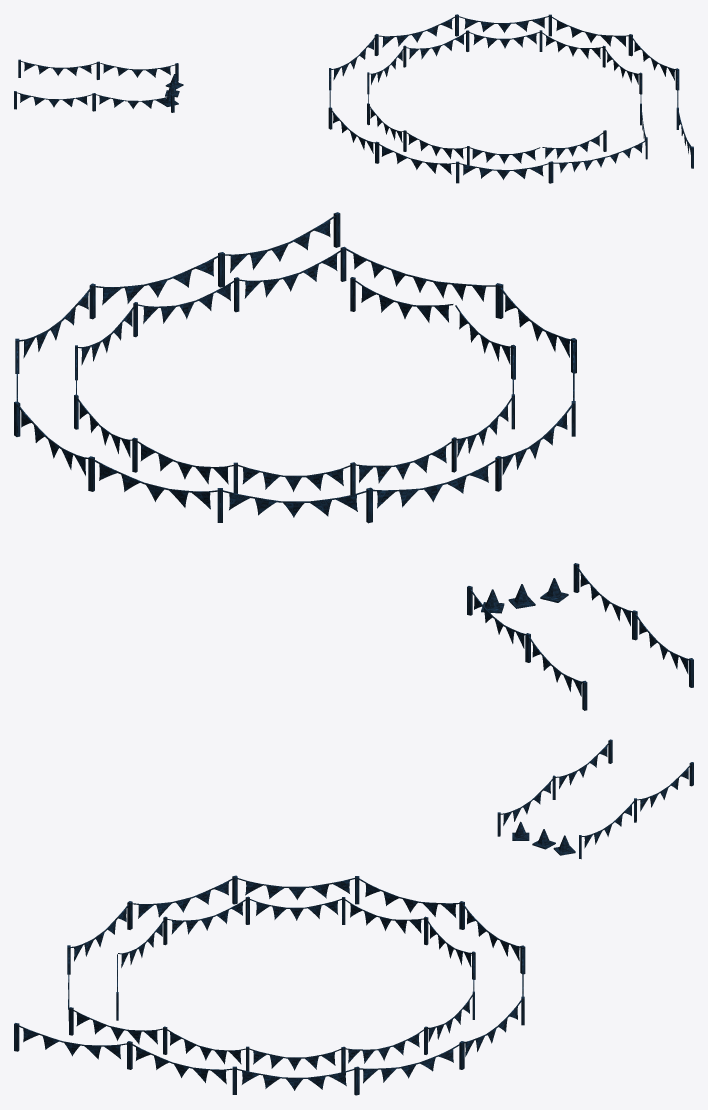
Rendered from FlagsAndCones.fbx.
3 views of the same model, one above another, from view 1: azimuth 30°, elevation 25°; view 2: azimuth 150°, elevation 25°; view 3: azimuth 270°, elevation 25° (orthographic). The views are drawn at different scales.
Parts seen in each view (by area): view 1: QueueLine, FerrisQueue; view 2: QueueLine, FerrisQueue; view 3: QueueLine, FerrisQueue.
Part boxes in pixels (<box>): QueueLine: <box>328,14,693,183</box>; FerrisQueue: <box>14,59,178,112</box>; QueueLine: <box>14,212,576,523</box>; FerrisQueue: <box>467,563,693,710</box>; QueueLine: <box>14,875,525,1095</box>; FerrisQueue: <box>497,739,693,859</box>.
Size of the model in its own units: 24.18 by 0.918 by 20.97.
